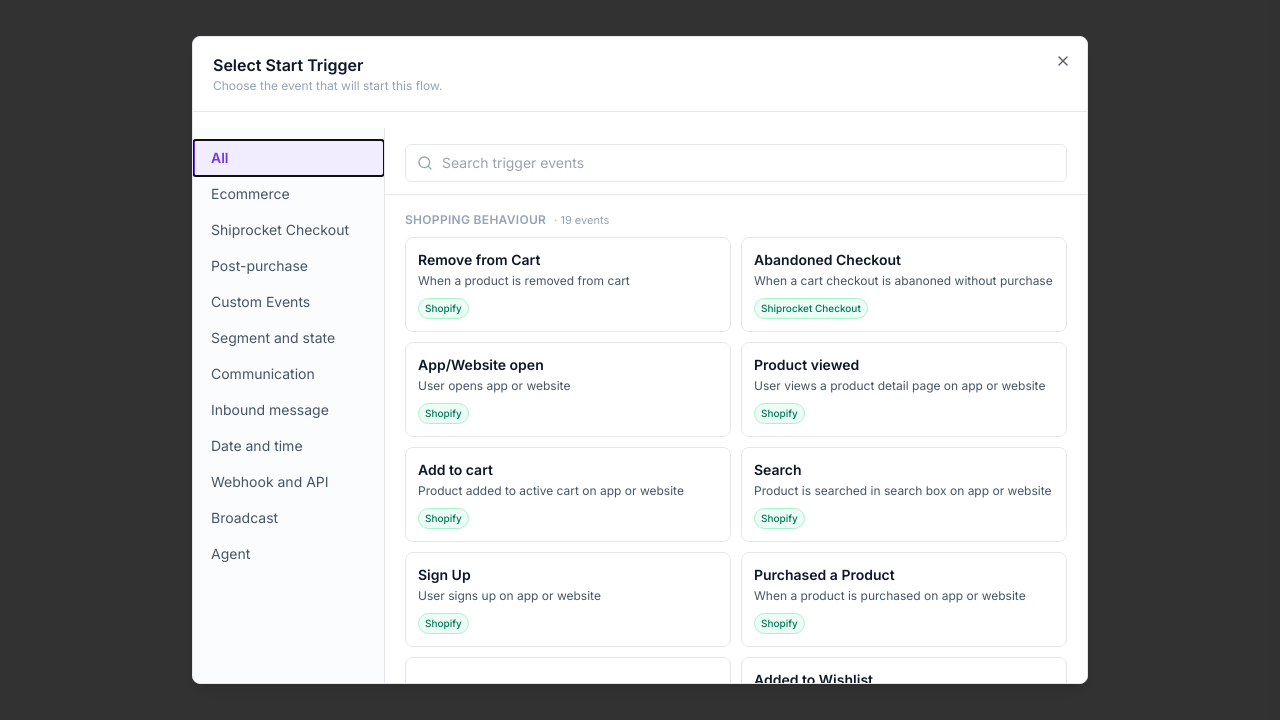
Scenario: StartTriggerWizard — merged single screen (Event trigger) › shows the When content and the Who content on the same screen, with no Next/Back buttons
This screenshot has width=1280, height=720.
What coordinates should you click on to do the following:
click the button with test id "event-picker-header-Ecommerce"
I would click on:
 (288, 194)
Its box is [193,176,384,212].
(page scrolled)
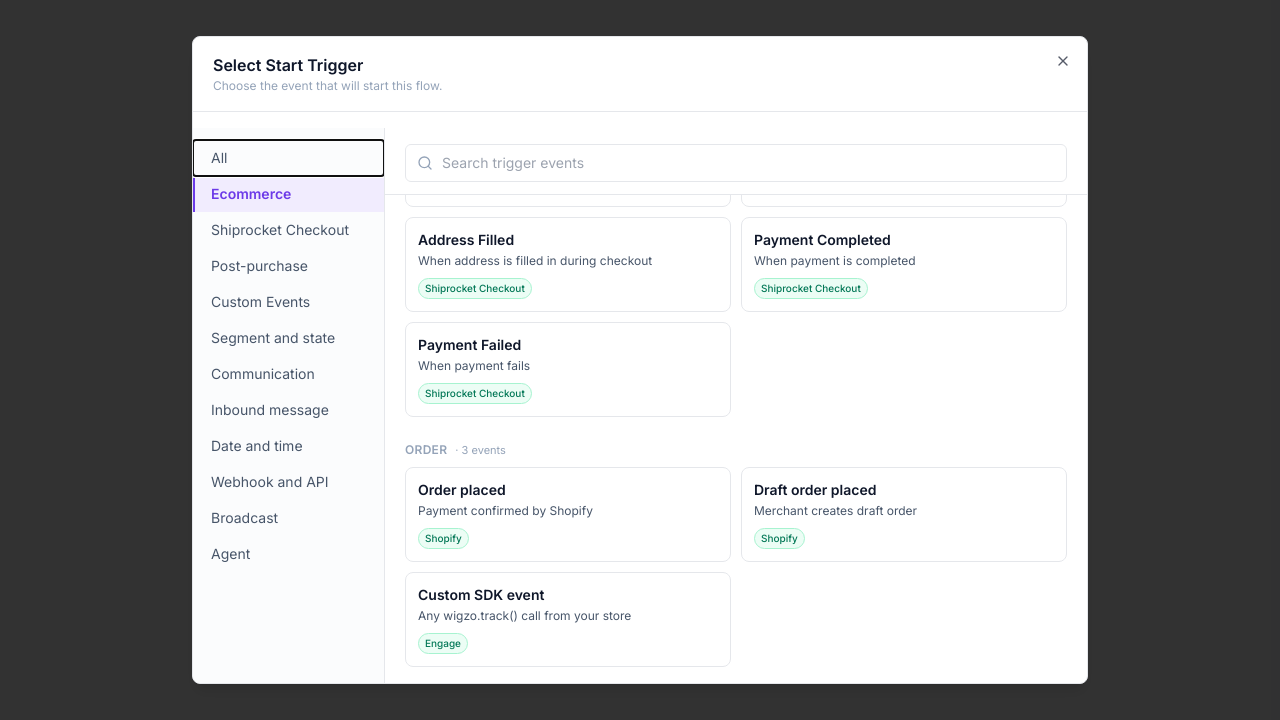
What coordinates should you click on to do the following:
click the button with test id "event-picker-card-Order placed"
I would click on:
 (568, 514)
Its box is [405,467,731,562].
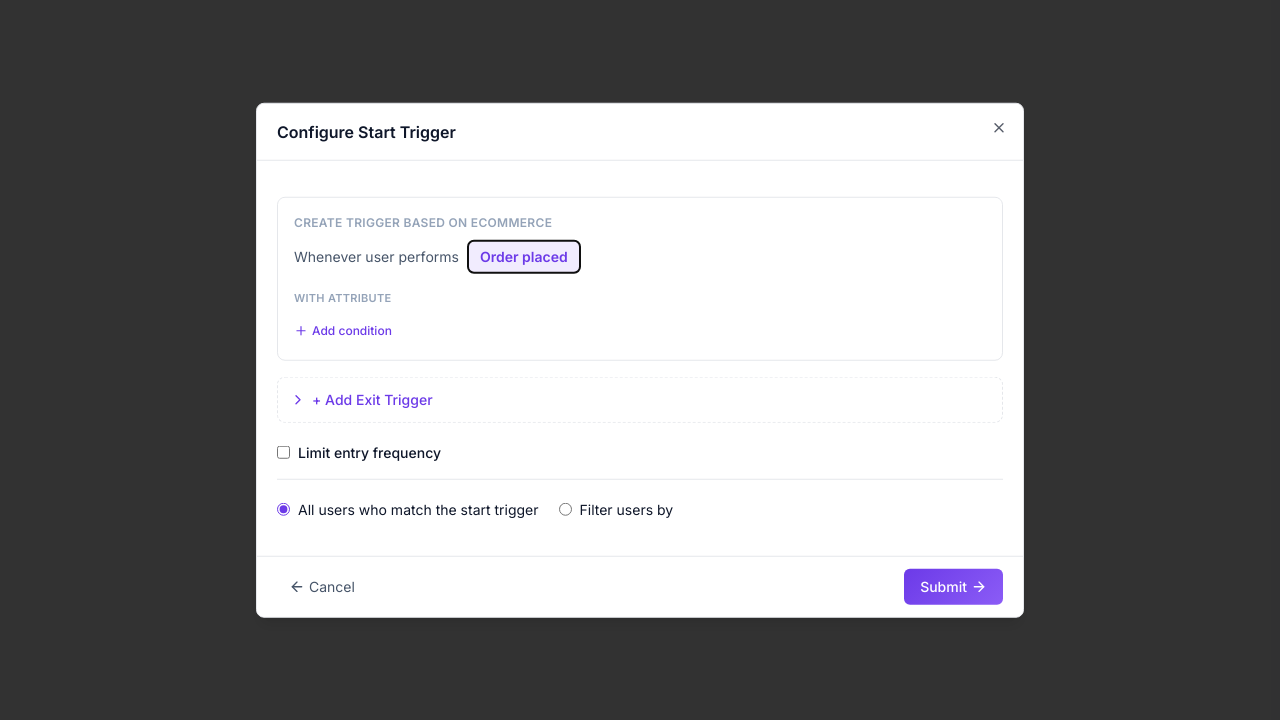
Expected: the element with test id "trigger-group-0" is shown, [277,197,1003,360]
Expected: the radio button with test id "audience-all-users" is shown, [277,503,290,516]
Expected: the button with test id "trigger-wizard-finish" is shown, [904,568,1003,604]
